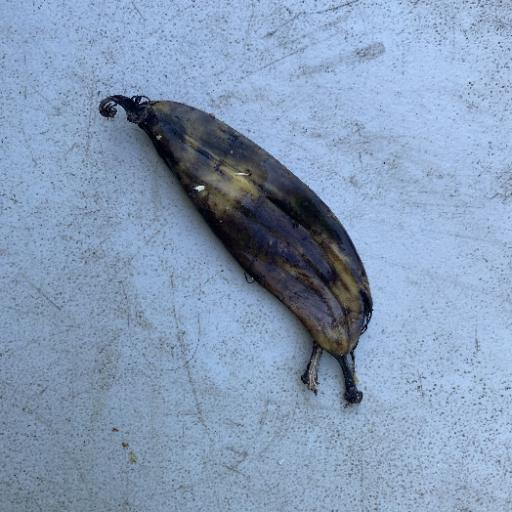Waste: (97, 92, 375, 406)
